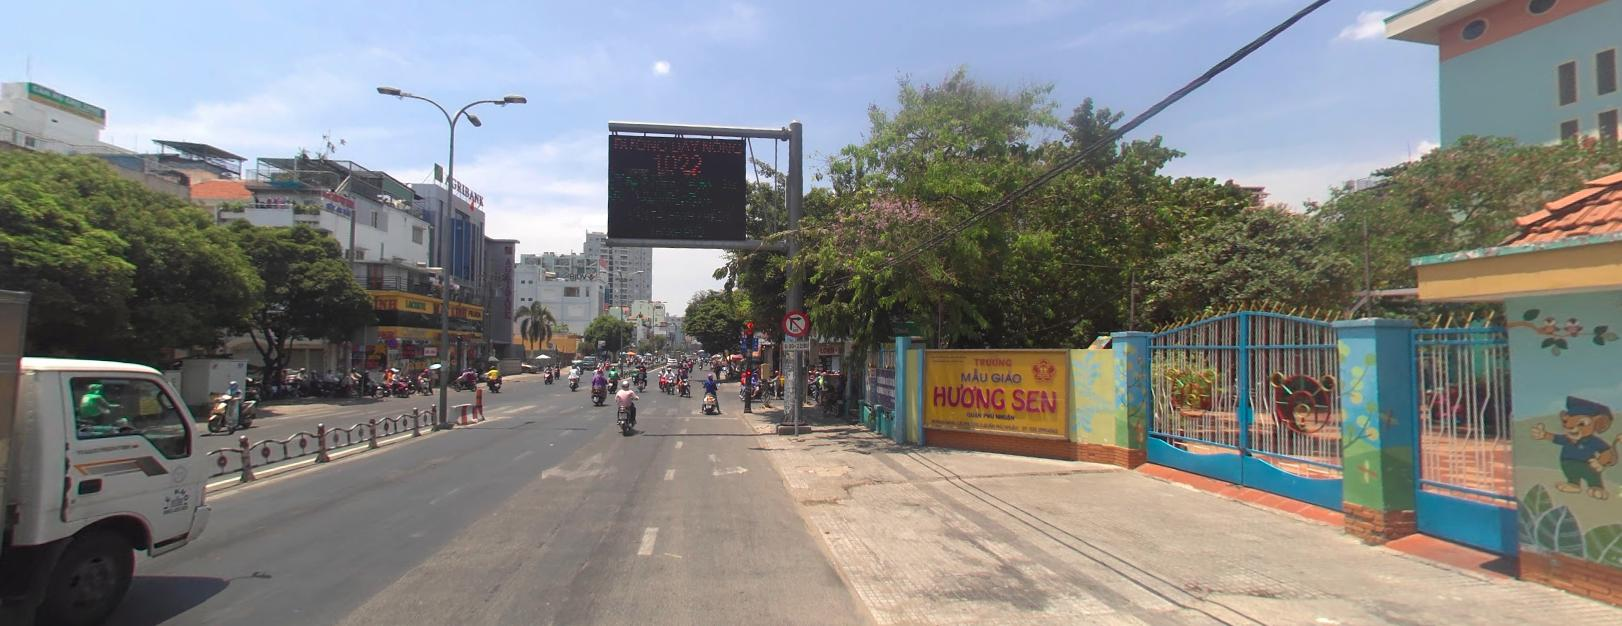Cam re: (781, 309, 809, 334)
